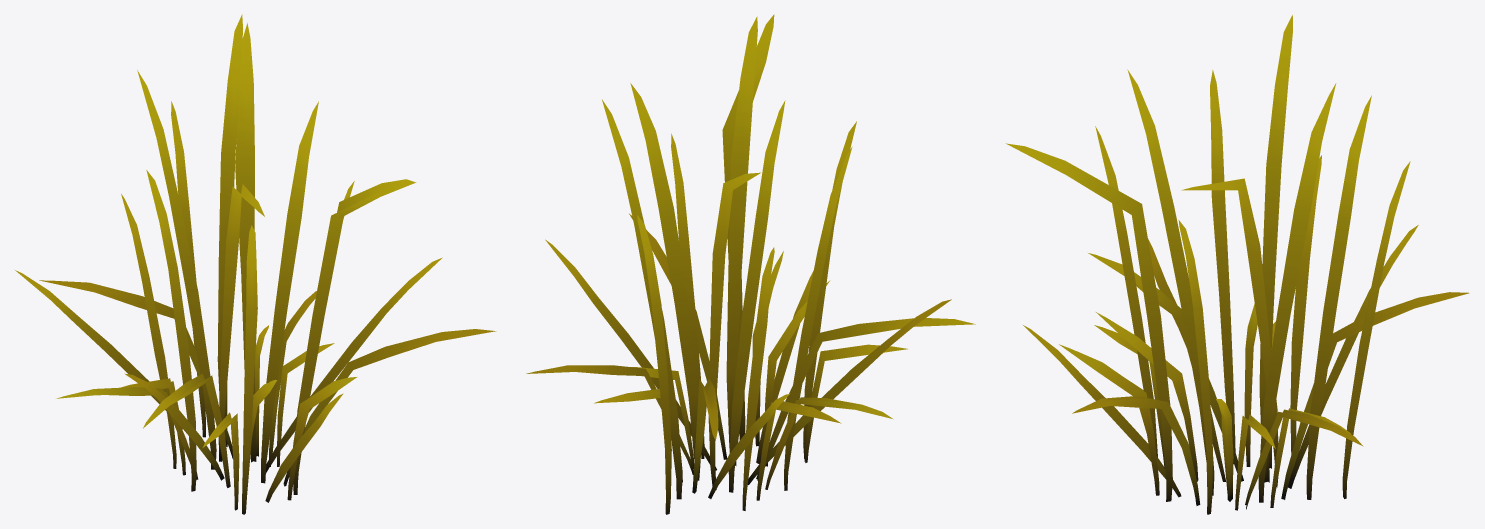
The model's file is Grass_Wispy_Tall.gltf.
3 views of the same model, side by side, from view 1: azimuth 30°, elevation 25°; view 2: azimuth 150°, elevation 25°; view 3: azimuth 270°, elevation 25° (orthographic). The views are drawn at different scales.
Parts seen in each view (by area): view 1: Grass_Wispy_Tall; view 2: Grass_Wispy_Tall; view 3: Grass_Wispy_Tall.
Boxes of the visible parts, x1=… form: Grass_Wispy_Tall: x1=15, y1=14, x2=496, y2=514; Grass_Wispy_Tall: x1=526, y1=14, x2=975, y2=514; Grass_Wispy_Tall: x1=1005, y1=15, x2=1469, y2=514.
Bounding box in the file's own units: 1.54 × 1.67 × 1.59.
Materials: 1 (1 with a texture image).
